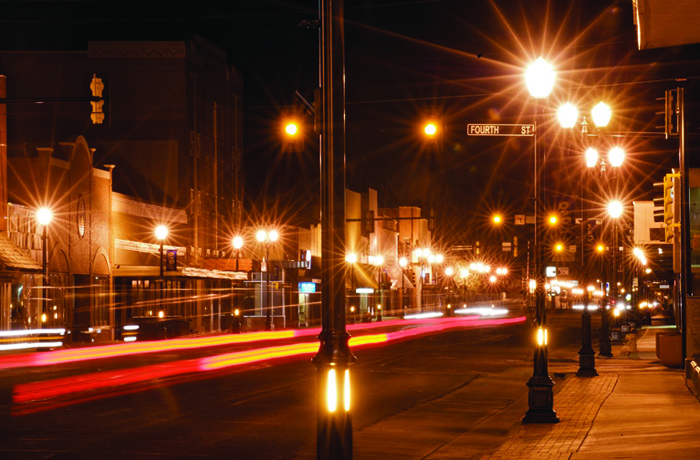Lamp: (485, 42, 590, 423), (552, 86, 623, 381), (10, 203, 75, 359), (128, 212, 194, 335), (231, 214, 290, 341)
